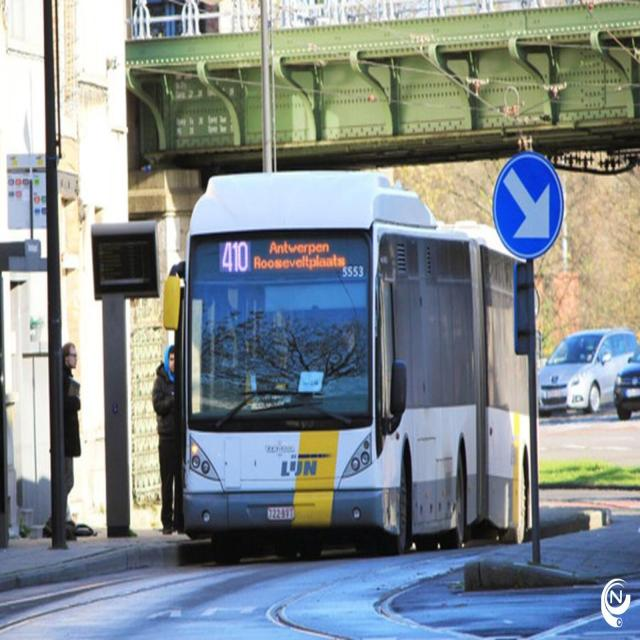bus-number: (220, 240, 249, 275)
